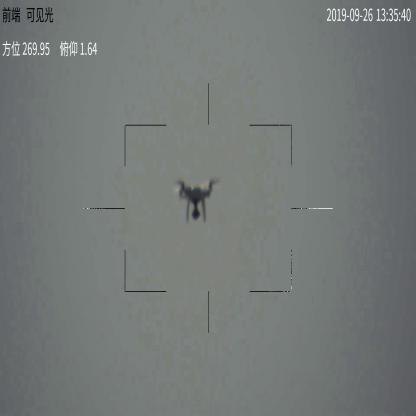uav: (172, 176, 217, 224)
